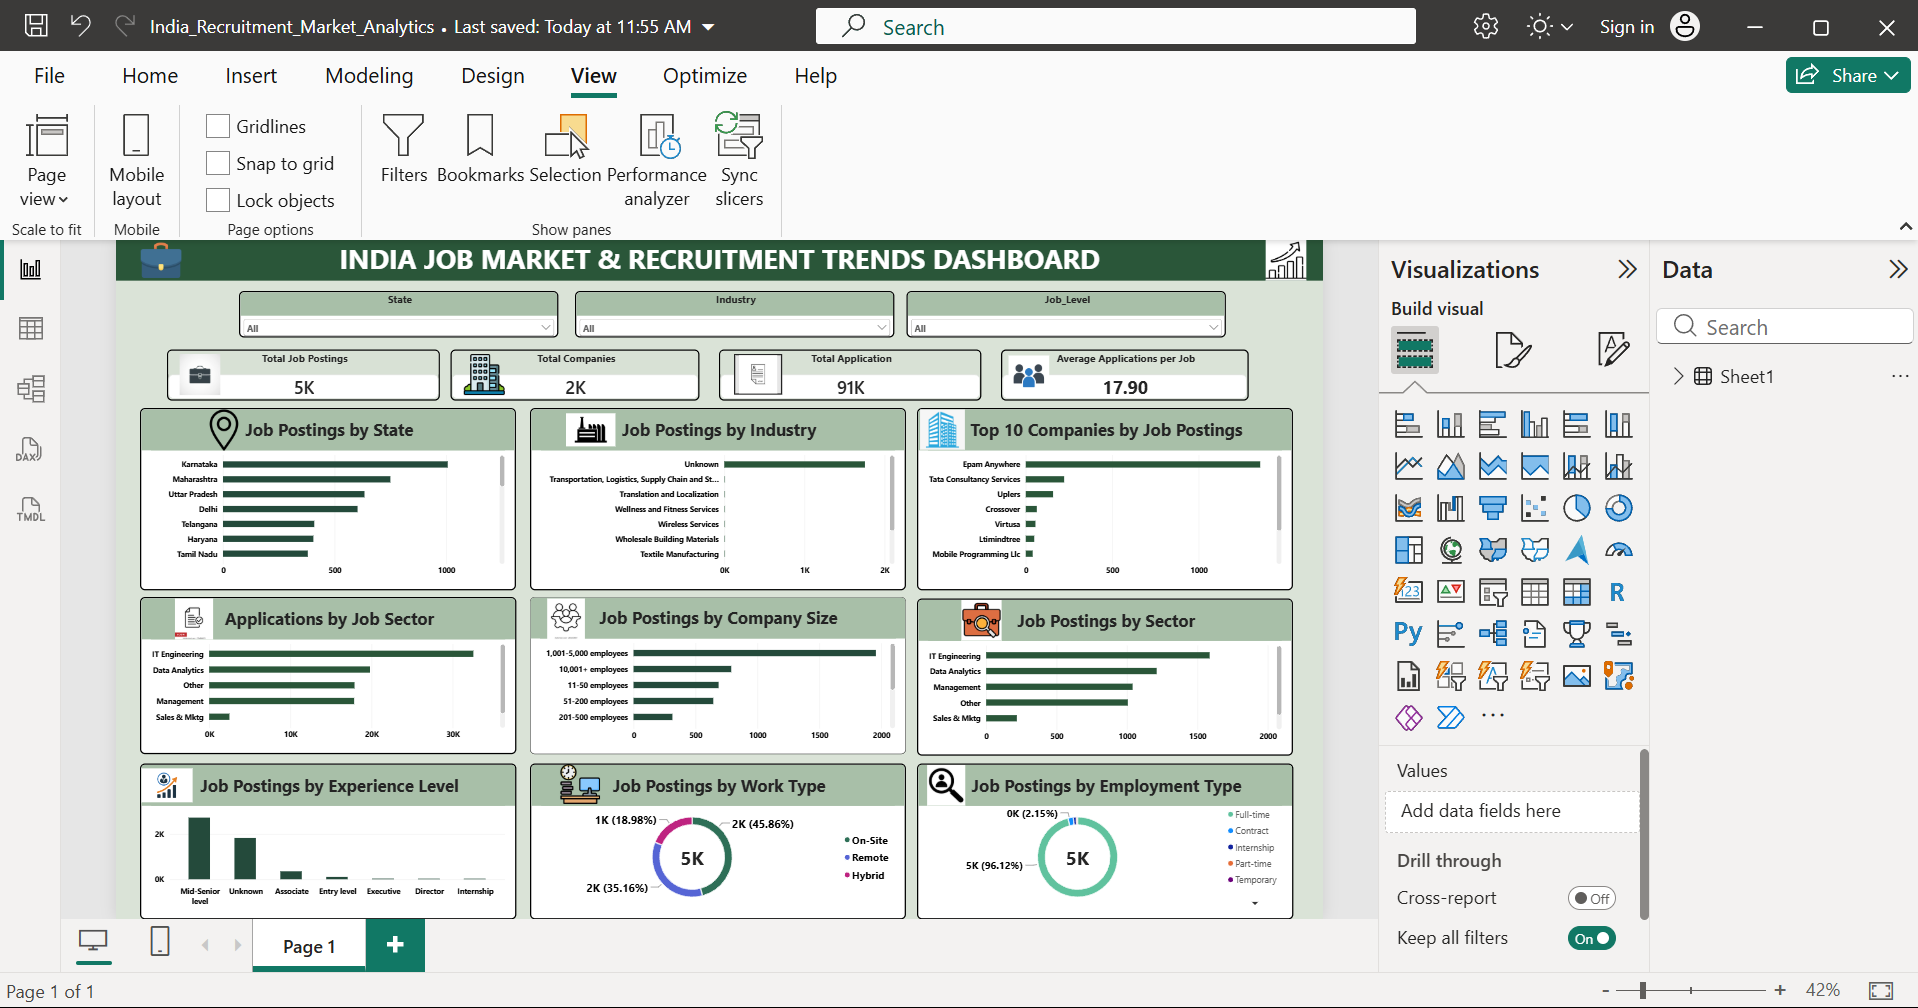

The page's visual inventory and layout, read from the dashboard file:
{"tool":"powerbi","page":{"name":"Page 1","canvas":[1920,1080],"ordinal":0},"visuals":[{"type":"cardVisual","title":"Total Job Postings","fields":{"Data":["Sheet1.Total Job Postings"]},"box":[81.1,174.2,434.2,81.1],"z":0},{"type":"cardVisual","title":"Total Companies","fields":{"Data":["Sheet1.Total Companies"]},"box":[532.1,174.2,396.1,81.1],"z":1},{"type":"cardVisual","title":"Total Application","fields":{"Data":["Sheet1.Total Applications"]},"box":[959.1,174.2,417.5,81.1],"z":2},{"type":"cardVisual","title":"Average Applications per Job","fields":{"Data":["Sheet1.Average Application per Job"]},"box":[1407.7,174.2,393.7,81.1],"z":3},{"type":"clusteredBarChart","title":"Job Postings by State","fields":{"Category":["Sheet1.State"],"Y":["Sheet1.Total Job Postings"]},"box":[38.2,267.2,598,290],"z":4},{"type":"clusteredBarChart","title":"Job Postings by Industry","fields":{"Category":["Sheet1.Industry"],"Y":["Sheet1.Total Job Postings"]},"box":[658.5,267.2,598,290],"z":5},{"type":"clusteredColumnChart","title":"Job Postings by Experience Level","fields":{"Category":["Sheet1.Job_Level"],"Y":["Sheet1.Total Job Postings"]},"box":[38.2,832.7,598.9,248.1],"z":6},{"type":"donutChart","title":"Job Postings by Work Type","fields":{"Category":["Sheet1.Work_Type"],"Y":["Sheet1.Total Job Postings"]},"box":[658.5,832.7,598,248.1],"z":7},{"type":"clusteredBarChart","title":"Job Postings by Sector","fields":{"Category":["Sheet1.Job_Sector"],"Y":["Sheet1.Total Job Postings"]},"box":[1274.1,570.2,598,250],"z":8},{"type":"clusteredBarChart","title":"Applications by Job Sector","fields":{"Category":["Sheet1.Job_Sector"],"Y":["Sheet1.Total Applications"]},"box":[38.2,567.8,598.9,250],"z":9},{"type":"donutChart","title":"Job Postings by Employment Type","fields":{"Category":["Sheet1.Job_Type (Full-time/Contract)"],"Y":["Sheet1.Total Job Postings"]},"box":[1274.1,832.7,598.9,248.1],"z":10},{"type":"clusteredBarChart","title":"Top 10 Companies by Job Postings","fields":{"Category":["Sheet1.Company_Name"],"Y":["Sheet1.Total Job Postings"]},"box":[1274.1,267.2,598,290],"z":11},{"type":"slicer","title":"State","fields":{"Values":["Sheet1.State"]},"box":[195.6,81.1,508,74],"z":12},{"type":"slicer","title":"Industry","fields":{"Values":["Sheet1.Industry"]},"box":[730.1,81.1,508,74],"z":13},{"type":"slicer","title":"Job_Level","fields":{"Values":["Sheet1.Job_Level"]},"box":[1257.4,81.1,508.2,74],"z":14},{"type":"clusteredBarChart","title":"Job Postings by Company Size","fields":{"Category":["Sheet1.Company_Size"],"Y":["Sheet1.Total Job Postings"]},"box":[658.5,567.8,598,250],"z":15},{"type":"textbox","box":[0,0,1920.7,64.4],"z":16},{"type":"image","box":[658.5,570.2,114.5,64.4],"z":17},{"type":"image","box":[124.1,269.6,95.4,65],"z":18},{"type":"image","box":[703.8,832.7,69.2,65],"z":19},{"type":"image","box":[81.1,570.2,85.9,65],"z":20},{"type":"image","box":[551.1,181.3,69.2,65],"z":21},{"type":"image","box":[85.9,181.3,95.4,65],"z":22},{"type":"image","box":[1266.9,269.6,95.4,64],"z":23},{"type":"image","box":[1278.9,835.1,83.5,64.4],"z":24},{"type":"image","box":[983,181.3,76.3,64.4],"z":25},{"type":"image","box":[1407.7,183.7,88.3,64.4],"z":26},{"type":"image","box":[715.8,269.6,78.7,64.4],"z":27},{"type":"image","box":[1331.3,572.6,90.7,64.4],"z":28},{"type":"image","box":[40.6,835.1,81.1,64.4],"z":29},{"type":"image","box":[1801.4,0,119.3,64.4],"z":30},{"type":"image","box":[0,0,143.2,64.4],"z":31}]}

Visuals, with their boxes on the page's 1920x1080 design canvas (x1, y1, x2, y2). These are canvas units, not pixel positions in the 1918x1008 screenshot, which may show the page scaled, cropped or inside an application window:
"Total Job Postings" cardVisual: (81, 174, 515, 255)
"Total Companies" cardVisual: (532, 174, 928, 255)
"Total Application" cardVisual: (959, 174, 1377, 255)
"Average Applications per Job" cardVisual: (1408, 174, 1801, 255)
"Job Postings by State" clusteredBarChart: (38, 267, 636, 557)
"Job Postings by Industry" clusteredBarChart: (658, 267, 1256, 557)
"Job Postings by Experience Level" clusteredColumnChart: (38, 833, 637, 1081)
"Job Postings by Work Type" donutChart: (658, 833, 1256, 1081)
"Job Postings by Sector" clusteredBarChart: (1274, 570, 1872, 820)
"Applications by Job Sector" clusteredBarChart: (38, 568, 637, 818)
"Job Postings by Employment Type" donutChart: (1274, 833, 1873, 1081)
"Top 10 Companies by Job Postings" clusteredBarChart: (1274, 267, 1872, 557)
"State" slicer: (196, 81, 704, 155)
"Industry" slicer: (730, 81, 1238, 155)
"Job_Level" slicer: (1257, 81, 1766, 155)
"Job Postings by Company Size" clusteredBarChart: (658, 568, 1256, 818)
textbox: (0, 0, 1921, 64)
image: (658, 570, 773, 635)
image: (124, 270, 220, 335)
image: (704, 833, 773, 898)
image: (81, 570, 167, 635)
image: (551, 181, 620, 246)
image: (86, 181, 181, 246)
image: (1267, 270, 1362, 334)
image: (1279, 835, 1362, 900)
image: (983, 181, 1059, 246)
image: (1408, 184, 1496, 248)
image: (716, 270, 794, 334)
image: (1331, 573, 1422, 637)
image: (41, 835, 122, 900)
image: (1801, 0, 1921, 64)
image: (0, 0, 143, 64)
